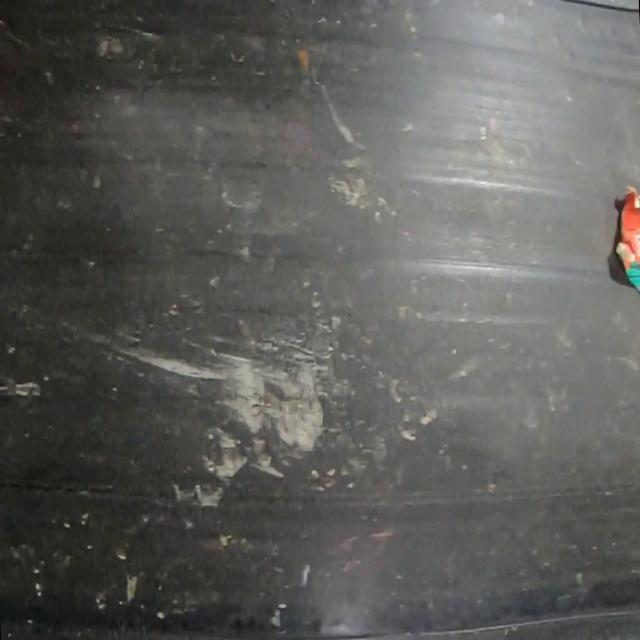cardboard: (613, 183, 640, 298)
